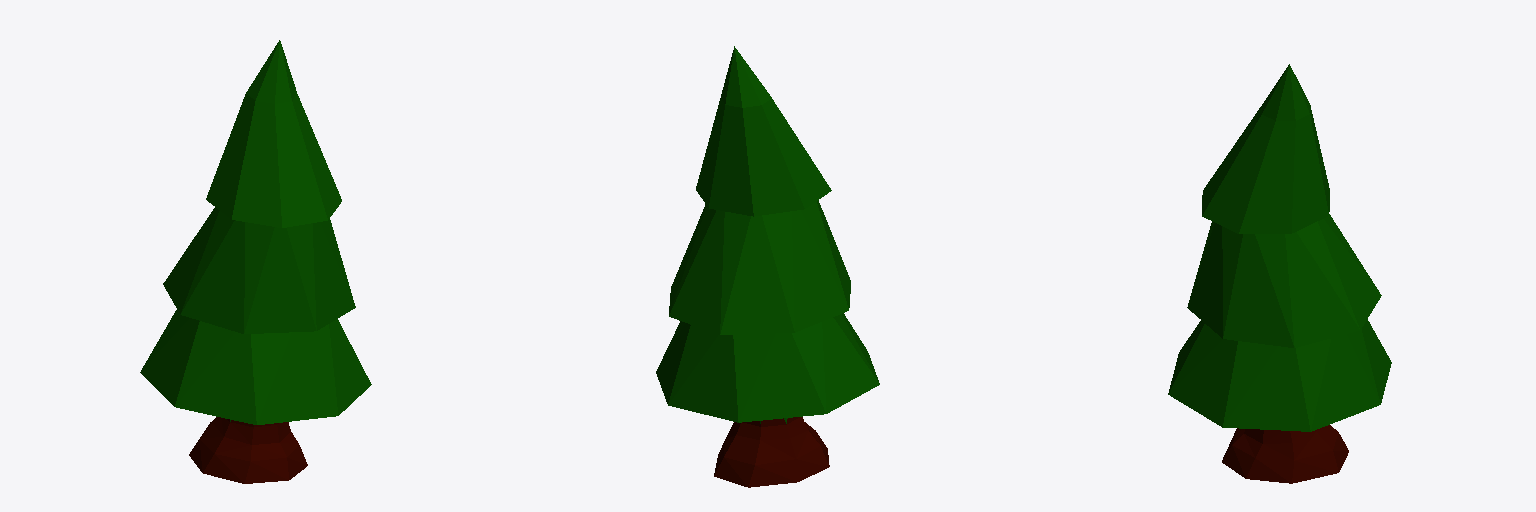
File: tree200.obj
3 views of the same model, side by side, from view 1: azimuth 30°, elevation 25°; view 2: azimuth 150°, elevation 25°; view 3: azimuth 270°, elevation 25° (orthographic).
Visible parts, largest first — view 1: TREE_2_Cylinder.002; view 2: TREE_2_Cylinder.002; view 3: TREE_2_Cylinder.002.
Part boxes in pixels (x1,y1,x2,y2): TREE_2_Cylinder.002: (140, 40, 371, 483); TREE_2_Cylinder.002: (656, 46, 879, 487); TREE_2_Cylinder.002: (1168, 64, 1391, 483).
Size of the model in its own units: 4.44 by 9.04 by 4.44.